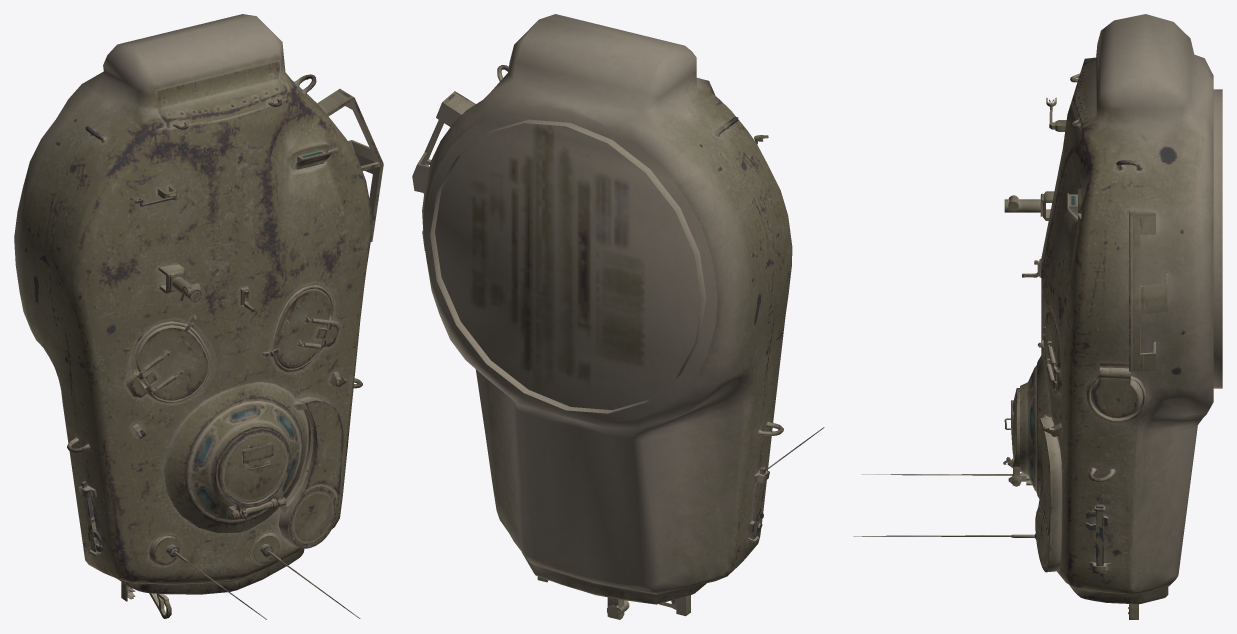
File: Turret_01.glb
3 renders of one model, left to right at view 1: azimuth 30°, elevation 25°; view 2: azimuth 150°, elevation 25°; view 3: azimuth 270°, elevation 25°, orthographic. The views are drawn at different scales.
Parts seen in each view (by area): view 1: set_0_group_0; view 2: set_0_group_0; view 3: set_0_group_0.
Boxes of the visible parts, x1=… form: set_0_group_0: x1=14, y1=14, x2=383, y2=619; set_0_group_0: x1=412, y1=14, x2=824, y2=619; set_0_group_0: x1=853, y1=14, x2=1222, y2=619.
Bounding box in the file's own units: 2.84 × 4.48 × 2.7.
Materials: 1 (1 with a texture image).
